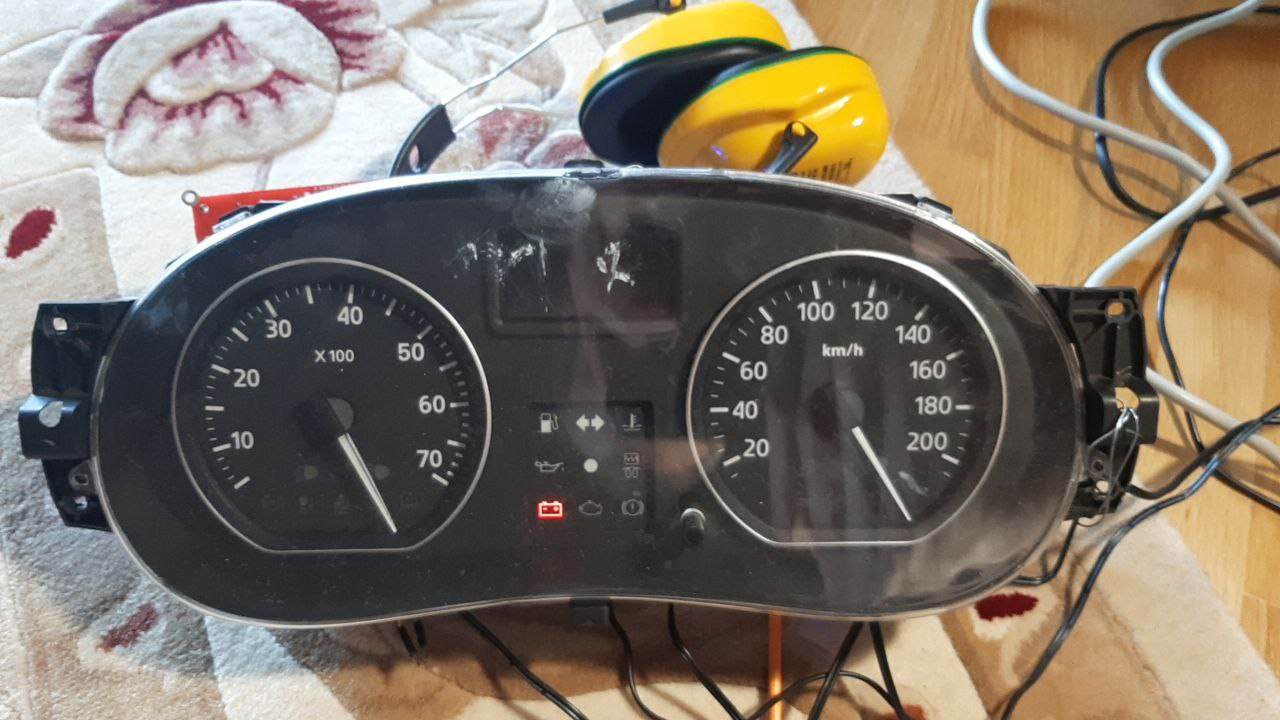accumulator: (532, 499, 569, 524)
